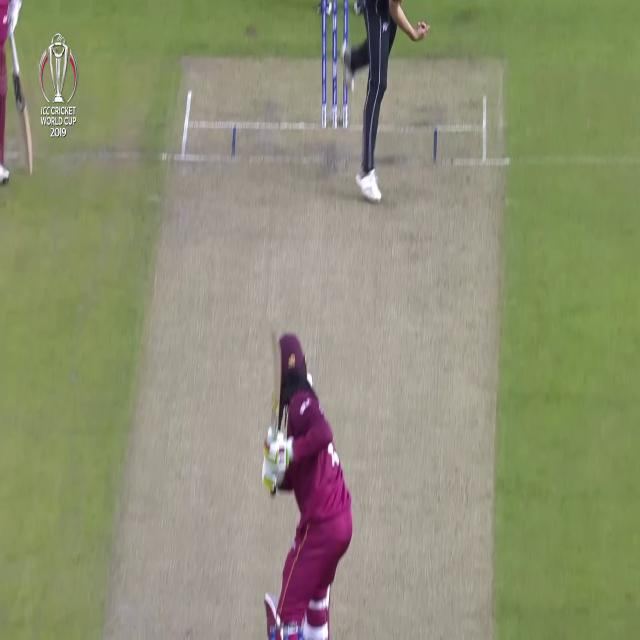ball: (305, 371, 314, 388)
